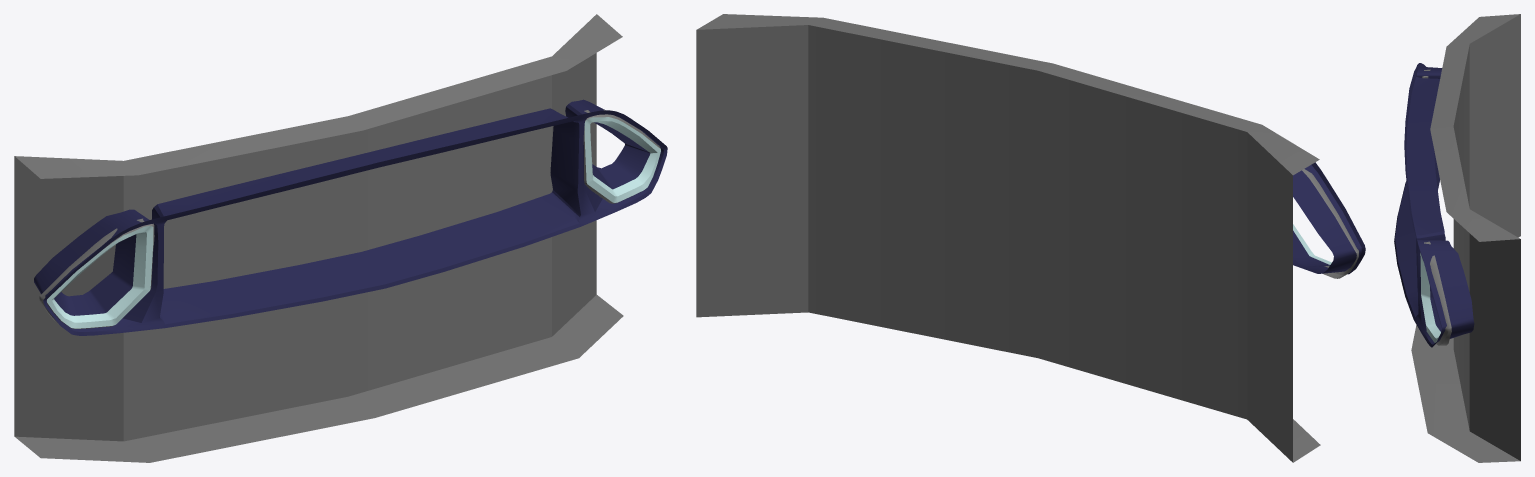
The model's file is front_part.fbx.
3 views of the same model, side by side, from view 1: azimuth 30°, elevation 25°; view 2: azimuth 150°, elevation 25°; view 3: azimuth 270°, elevation 25° (orthographic). The views are drawn at different scales.
Parts seen in each view (by area): view 1: plane3; view 2: plane3; view 3: plane3.
Part boxes in pixels (bbox=[...]): plane3: bbox=[14, 14, 667, 462]; plane3: bbox=[696, 14, 1365, 462]; plane3: bbox=[1394, 14, 1520, 462].
Bounding box in the file's own units: 114 × 49.12 × 25.22.
